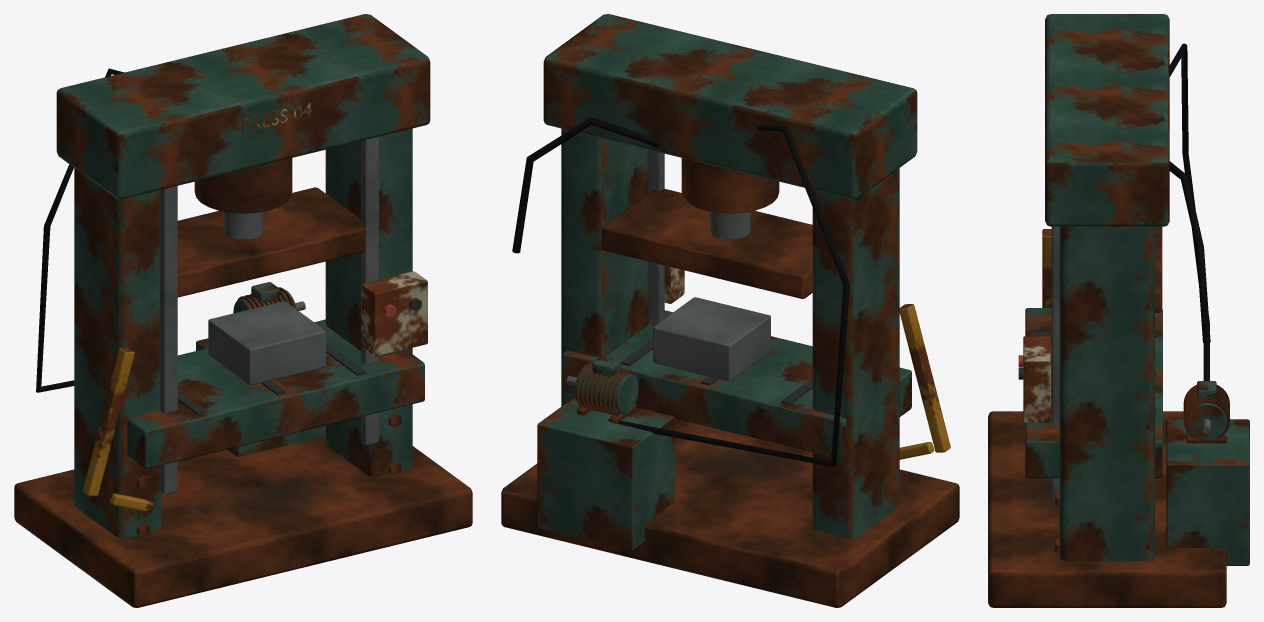
Rendered from hydraulic_press.glb.
3 renders of one model, left to right at view 1: azimuth 30°, elevation 25°; view 2: azimuth 150°, elevation 25°; view 3: azimuth 270°, elevation 25°, orthographic. The views are drawn at different scales.
Visible parts, largest first — view 1: Top crosshead, Press foundation, Heavy cast upright, Press bed, Heavy cast upright.001, Ram platen, Crushed die block, Upright inner slide, Operator control housing, Hydraulic cylinder, Press oil seep, Upright inner slide.001 (+4 smaller); view 2: Top crosshead, Press foundation, Heavy cast upright, Hydraulic reservoir, Heavy cast upright.001, Press bed, Ram platen, Crushed die block, Hydraulic cylinder, Oil pressure hose, Press oil seep, Broken yellow guard (+5 smaller); view 3: Heavy cast upright.001, Top crosshead, Press foundation, Hydraulic reservoir, Press bed, Operator control housing, Upright inner slide.001, Severed hydraulic hose, Oil pressure hose, Motor casing, Press oil seep, Broken yellow guard (+1 smaller).
Part boxes in pixels (bbox=[...]): Top crosshead: bbox=[56, 14, 430, 199]; Press foundation: bbox=[14, 436, 472, 607]; Heavy cast upright: bbox=[74, 168, 161, 537]; Press bed: bbox=[127, 319, 424, 468]; Heavy cast upright.001: bbox=[325, 128, 412, 476]; Ram platen: bbox=[177, 187, 365, 297]; Crushed die block: bbox=[208, 301, 326, 385]; Upright inner slide: bbox=[159, 186, 177, 494]; Operator control housing: bbox=[361, 271, 427, 356]; Hydraulic cylinder: bbox=[194, 158, 292, 213]; Press oil seep: bbox=[199, 477, 327, 520]; Upright inner slide.001: bbox=[361, 136, 378, 445]; Top crosshead: bbox=[543, 14, 917, 199]; Press foundation: bbox=[501, 419, 959, 607]; Heavy cast upright: bbox=[812, 168, 899, 537]; Hydraulic reservoir: bbox=[537, 397, 674, 550]; Heavy cast upright.001: bbox=[561, 128, 648, 406]; Press bed: bbox=[562, 310, 911, 458]; Ram platen: bbox=[602, 188, 812, 298]; Crushed die block: bbox=[653, 297, 770, 381]; Hydraulic cylinder: bbox=[681, 158, 779, 213]; Oil pressure hose: bbox=[608, 124, 849, 466]; Press oil seep: bbox=[680, 447, 811, 491]; Broken yellow guard: bbox=[899, 304, 950, 452]; Heavy cast upright.001: bbox=[1059, 226, 1154, 560]; Top crosshead: bbox=[1045, 14, 1169, 226]; Press foundation: bbox=[988, 411, 1226, 607]; Hydraulic reservoir: bbox=[1166, 419, 1249, 565]; Press bed: bbox=[1025, 308, 1162, 478]; Operator control housing: bbox=[1023, 336, 1050, 422]; Upright inner slide.001: bbox=[1051, 226, 1059, 504]; Severed hydraulic hose: bbox=[1169, 161, 1210, 343]; Oil pressure hose: bbox=[1169, 43, 1209, 380]; Motor casing: bbox=[1186, 402, 1227, 440]; Press oil seep: bbox=[1026, 478, 1059, 517]; Broken yellow guard: bbox=[1042, 229, 1051, 307].
Bounding box in the file's own units: 3.05 × 3.68 × 1.97.
Materials: 9 (7 with a texture image).
